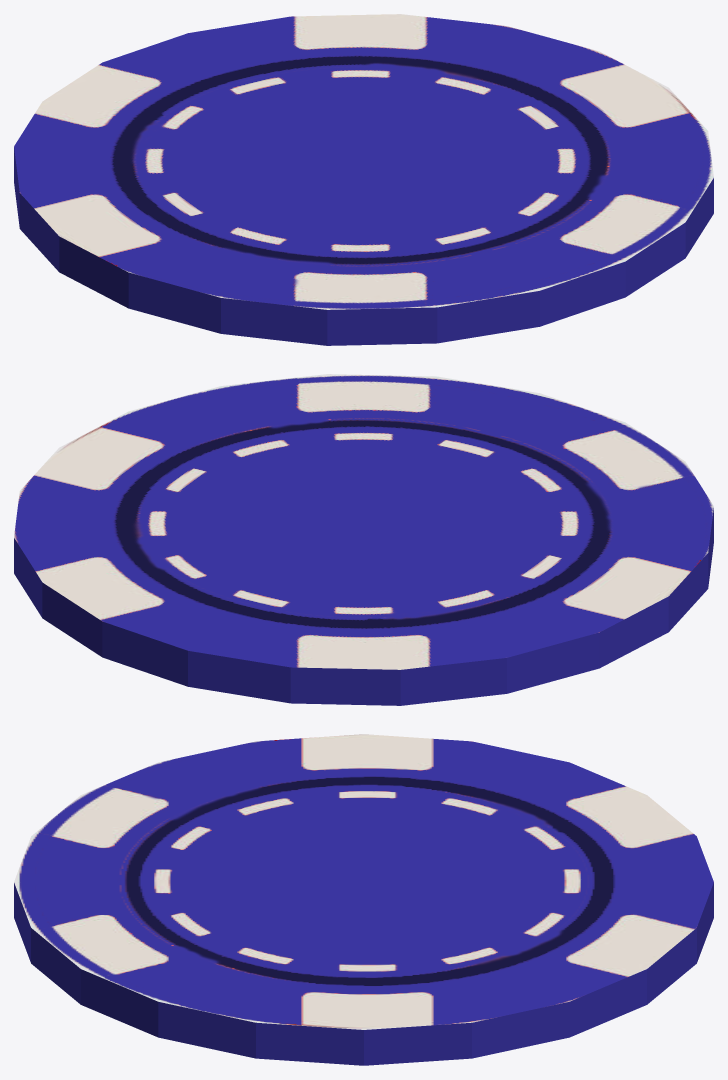
File: BlueChip.fbx
3 views of the same model, one above another, from view 1: azimuth 30°, elevation 25°; view 2: azimuth 150°, elevation 25°; view 3: azimuth 270°, elevation 25° (orthographic).
Visible parts, largest first — view 1: Cylinder.001; view 2: Cylinder.001; view 3: Cylinder.001.
Boxes of the visible parts, x1=… form: Cylinder.001: x1=14, y1=14, x2=713, y2=345; Cylinder.001: x1=14, y1=374, x2=713, y2=705; Cylinder.001: x1=14, y1=734, x2=713, y2=1065.
Bounding box in the file's own units: 2 × 0.1129 × 2.
1 material, 1 textured.
